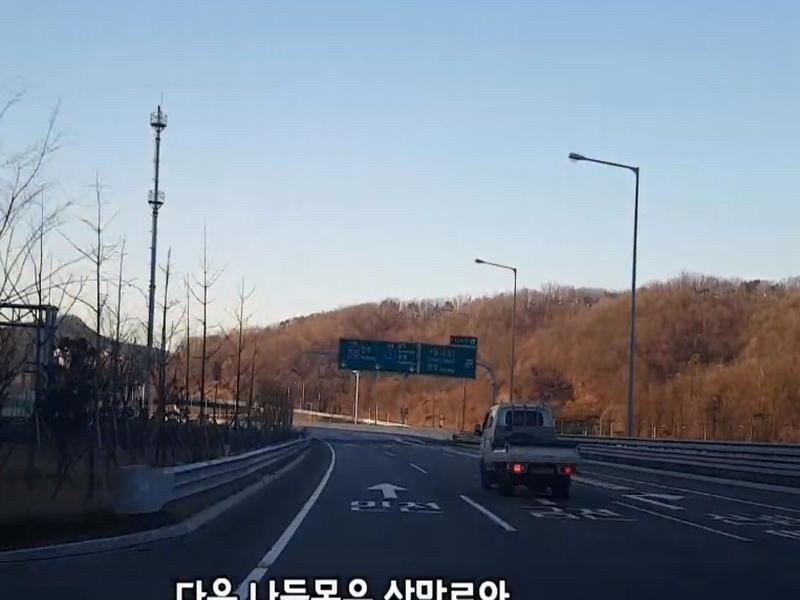car: (476, 401, 582, 493)
lane: (458, 493, 515, 532), (409, 463, 425, 474)
